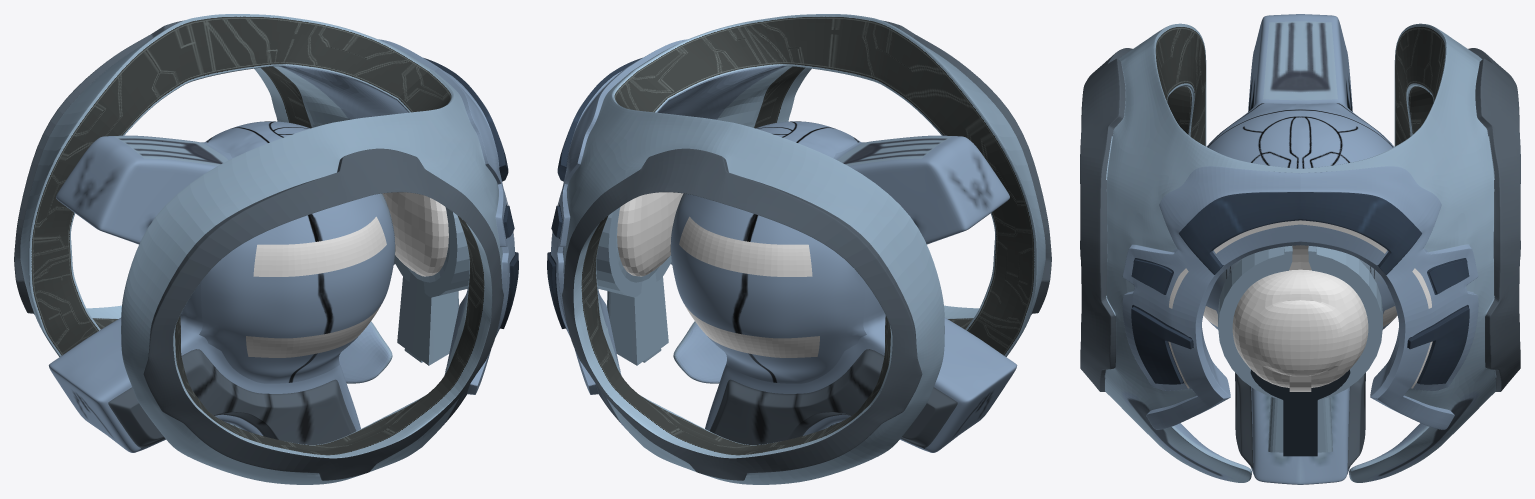
Rendered from NewMonitor11.fbx.
The picture shows the model from 3 angles, left to right: view 1: azimuth 30°, elevation 25°; view 2: azimuth 150°, elevation 25°; view 3: azimuth 270°, elevation 25°; orthographic projection. The views are drawn at different scales.
Parts seen in each view (by area): view 1: OuterShell, InnerCore.002, InnerCore.003, OuterShell.007, OuterShell.002, InnerCore.001, OuterShell.006, LED, Ring, BackLED; view 2: OuterShell, OuterShell.006, InnerCore.002, InnerCore.003, OuterShell.002, InnerCore.001, LED, Ring, BackLED; view 3: OuterShell, InnerCore.003, Eye, Ring, InnerCore.002, OuterShell.007, OuterShell.006, InnerCore.001, OuterShell.002, OuterShell.001.
Boxes of the visible parts, x1,y1,x2,y2 form: OuterShell: (14, 14, 518, 484); InnerCore.002: (199, 121, 395, 383); InnerCore.003: (48, 135, 360, 452); OuterShell.007: (30, 15, 308, 356); OuterShell.002: (70, 65, 492, 458); InnerCore.001: (108, 349, 356, 448); OuterShell.006: (285, 21, 452, 112); LED: (246, 216, 386, 357); Ring: (394, 207, 469, 365); BackLED: (382, 192, 448, 276); OuterShell: (547, 14, 1051, 484); OuterShell.006: (613, 15, 1035, 356); InnerCore.002: (670, 121, 866, 383); InnerCore.003: (705, 135, 1017, 452); OuterShell.002: (573, 65, 995, 458); InnerCore.001: (709, 349, 957, 448); LED: (679, 216, 819, 357); Ring: (596, 207, 671, 365); BackLED: (617, 192, 683, 276); OuterShell: (1080, 23, 1520, 482); InnerCore.003: (1248, 14, 1352, 484); Eye: (1232, 269, 1368, 391); Ring: (1218, 246, 1382, 456); InnerCore.002: (1206, 103, 1394, 329); OuterShell.007: (1394, 24, 1445, 146); OuterShell.006: (1155, 24, 1206, 146); InnerCore.001: (1235, 372, 1365, 469); OuterShell.002: (1167, 85, 1433, 135); OuterShell.001: (1213, 220, 1387, 253).
Bounding box in the file's own units: 477 × 435 × 429.
